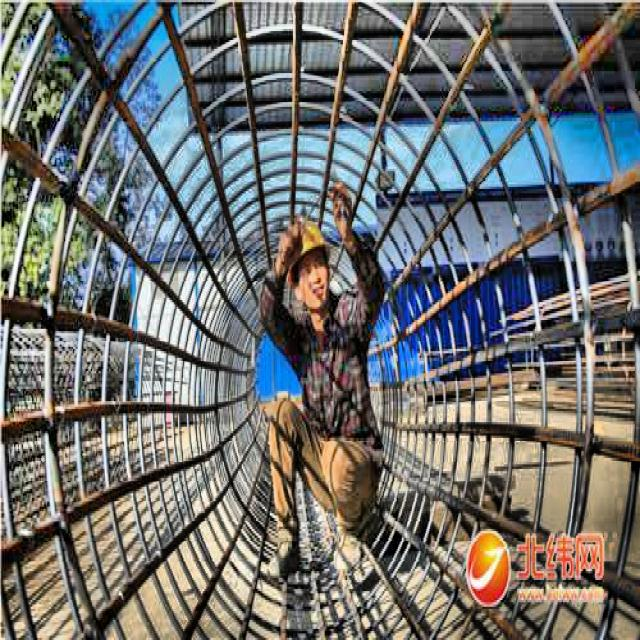helmet: (275, 220, 339, 327)
